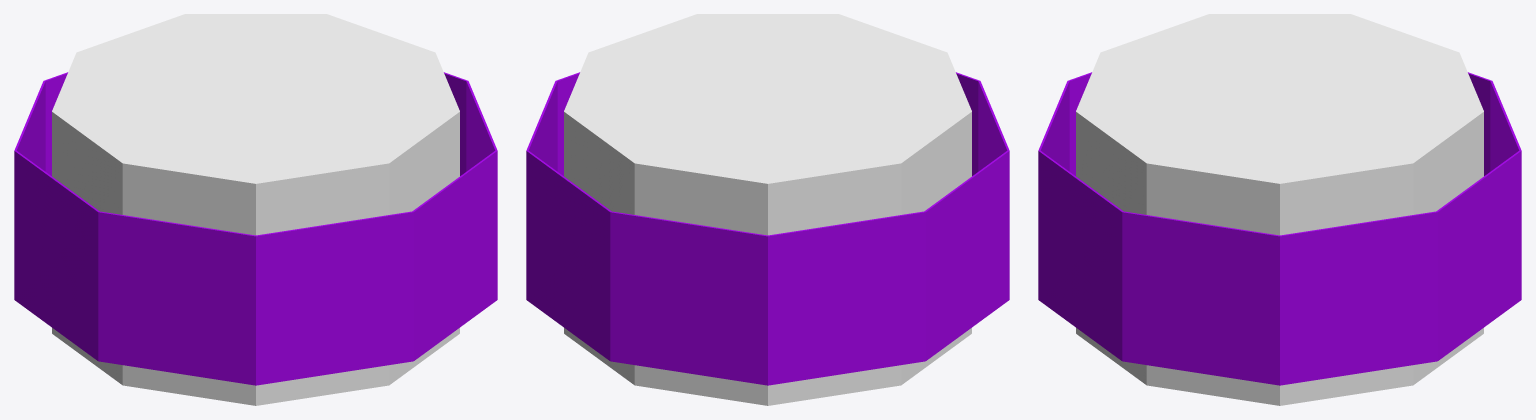
The model's file is BouncerPurple.obj.
3 views of the same model, side by side, from view 1: azimuth 30°, elevation 25°; view 2: azimuth 150°, elevation 25°; view 3: azimuth 270°, elevation 25° (orthographic).
Visible parts, largest first — view 1: Level_Models:pCylinder32; view 2: Level_Models:pCylinder32; view 3: Level_Models:pCylinder32.
Part boxes in pixels (bbox=[...]): Level_Models:pCylinder32: bbox=[14, 14, 497, 405]; Level_Models:pCylinder32: bbox=[526, 14, 1009, 405]; Level_Models:pCylinder32: bbox=[1038, 14, 1521, 405].
Size of the model in its own units: 0.6435 by 0.3312 by 0.6534.
Materials: 2 (2 with a texture image).
